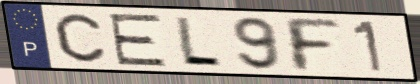1: (351, 20, 385, 74)
9: (230, 15, 281, 72)
C: (52, 12, 109, 64)
E: (106, 12, 170, 67)
F: (279, 15, 344, 74)
L: (173, 14, 224, 69)
